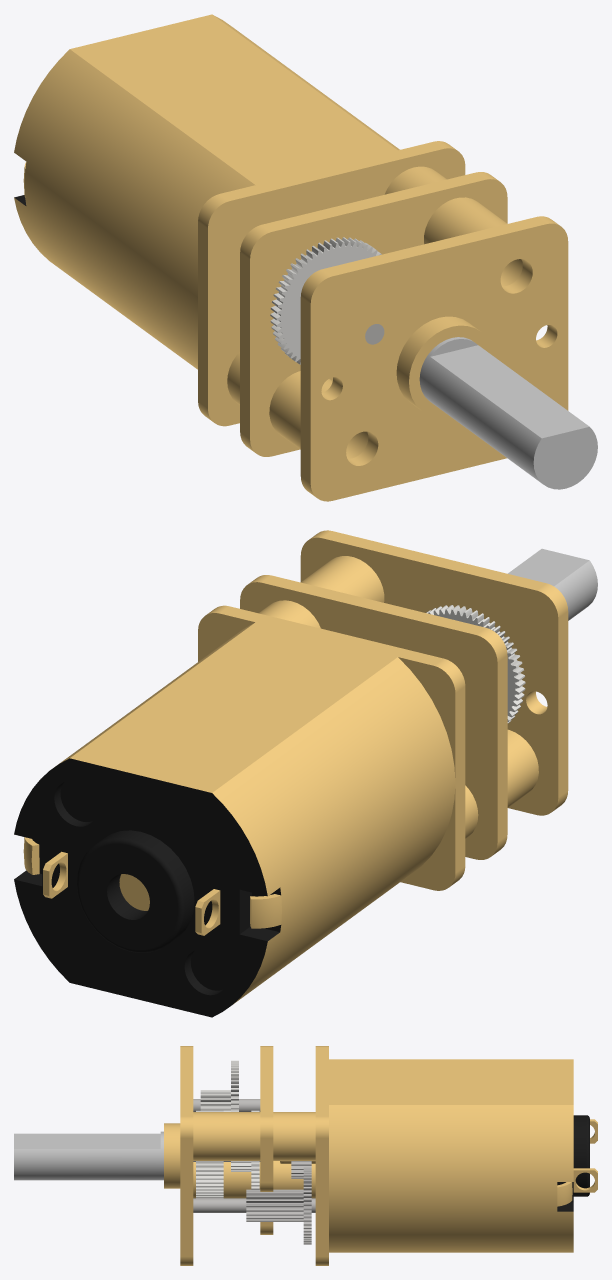
The model's file is N20 DC Gear Motor.fbx.
The picture shows the model from 3 angles, top to bottom: view 1: azimuth 30°, elevation 25°; view 2: azimuth 150°, elevation 25°; view 3: azimuth 270°, elevation 25°; orthographic projection. The views are drawn at different scales.
Visible parts, largest first — view 1: Gear Box, Motor, Shaft, Gear 4; view 2: Motor, Gear Box, Shaft, Gear 4; view 3: Motor, Gear Box, Shaft, Gear 2, Gear 5, Gear 4, Shaft 1, Gear 3, Shaft 2.
Boxes of the visible parts, box(x1,y1,x2,y2) form: Gear Box: box(198, 141, 568, 501); Motor: box(14, 14, 399, 369); Shaft: box(419, 337, 597, 489); Gear 4: box(270, 237, 381, 364); Motor: box(14, 622, 455, 1017); Gear Box: box(198, 530, 568, 890); Shaft: box(508, 548, 597, 620); Gear 4: box(426, 605, 525, 723); Motor: box(280, 1059, 597, 1252); Gear Box: box(164, 1046, 328, 1265); Shaft: box(14, 1131, 260, 1180); Gear 2: box(246, 1167, 311, 1244); Gear 5: box(196, 1110, 223, 1198); Gear 4: box(200, 1060, 238, 1111); Shaft 1: box(193, 1198, 315, 1212); Gear 3: box(231, 1110, 259, 1189); Shaft 2: box(193, 1099, 260, 1111).
Size of the model in its own units: 12 by 10 by 35.8.
